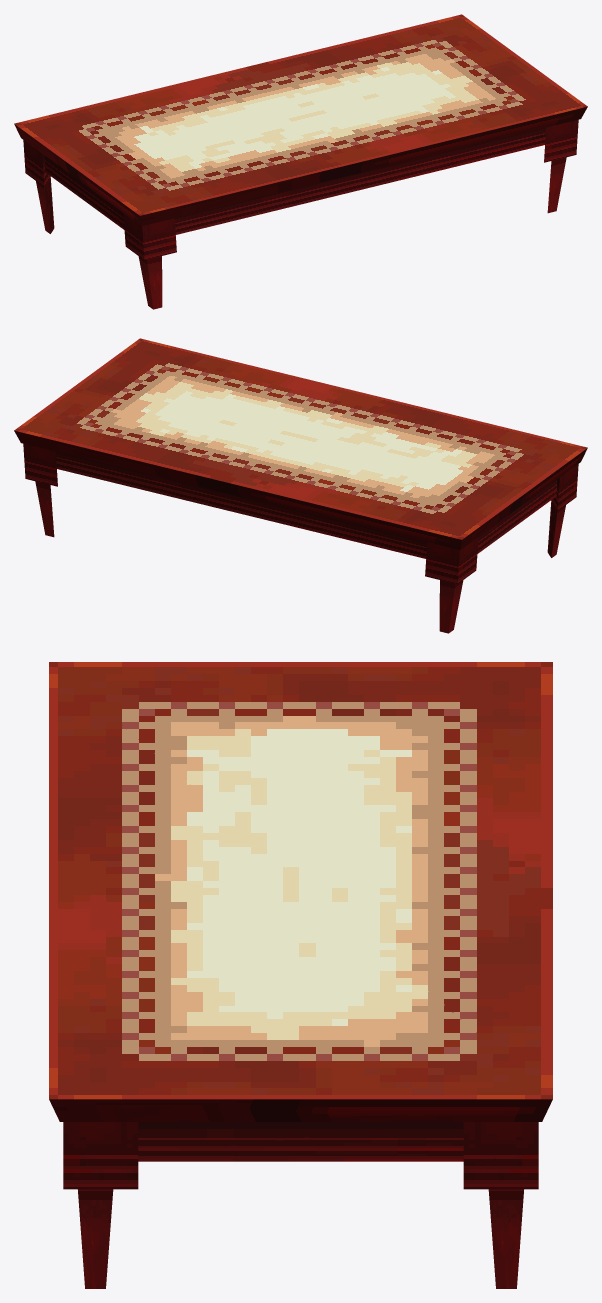
The picture shows the model from 3 angles, top to bottom: view 1: azimuth 30°, elevation 25°; view 2: azimuth 150°, elevation 25°; view 3: azimuth 270°, elevation 25°; orthographic projection. The views are drawn at different scales.
Visible parts, largest first — view 1: 3046IMRL02_07; view 2: 3046IMRL02_07; view 3: 3046IMRL02_07.
Boxes of the visible parts, x1,y1,x2,y2 form: 3046IMRL02_07: (14,14,587,309); 3046IMRL02_07: (14,338,587,633); 3046IMRL02_07: (49,662,552,1288).
Bounding box in the file's own units: 1.95 × 0.4399 × 0.9502.
Materials: 3 (3 with a texture image).
